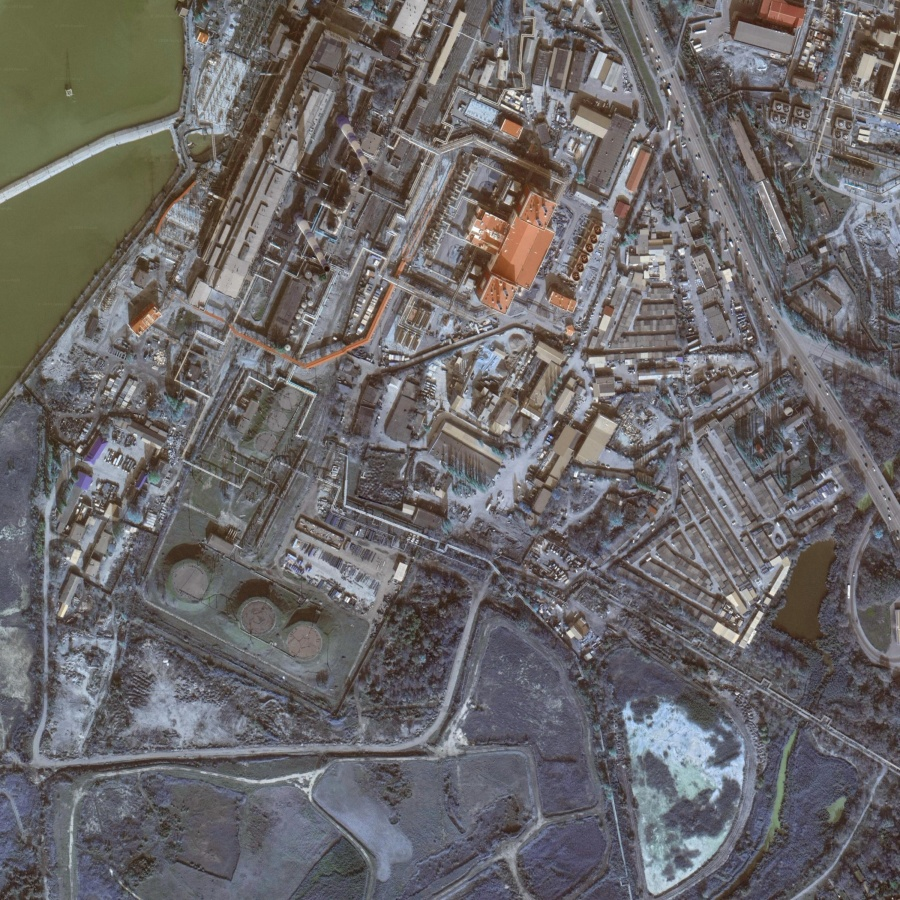PowerPlant: (153, 380, 339, 674)
